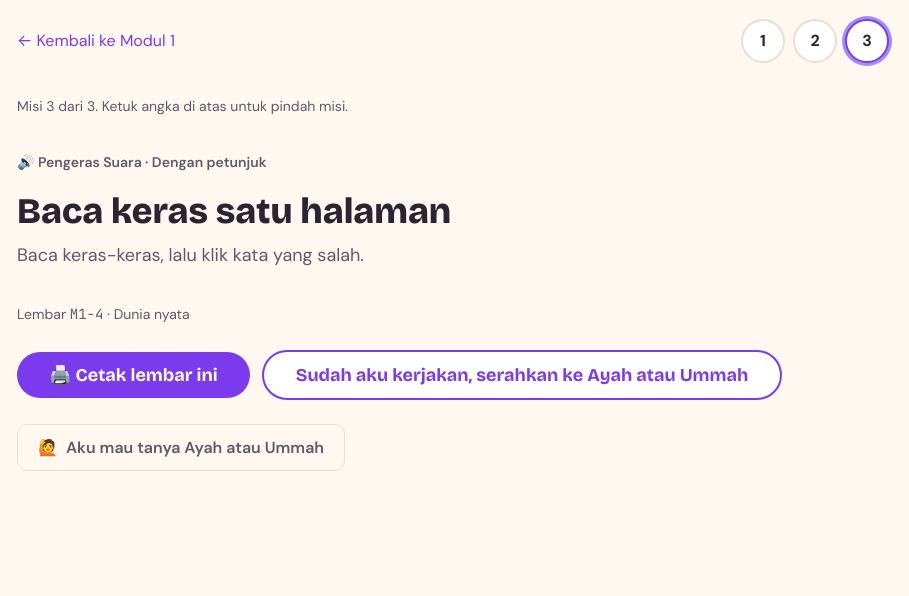
Scenario: Misi › misi cetak membuka lembar lalu menunggu diperiksa, anak boleh lanjut
Click the button "🖨️ Cetak lembar ini" at x=133, y=375, box [17, 352, 250, 398]
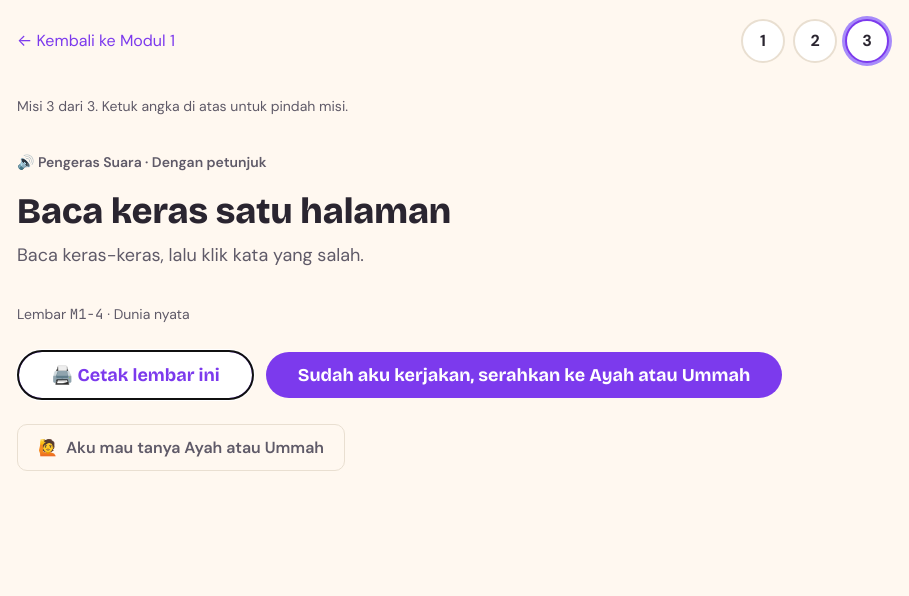
Click the button "Sudah aku kerjakan, serahkan ke Ayah atau Ummah" at x=524, y=375, box [266, 352, 782, 398]
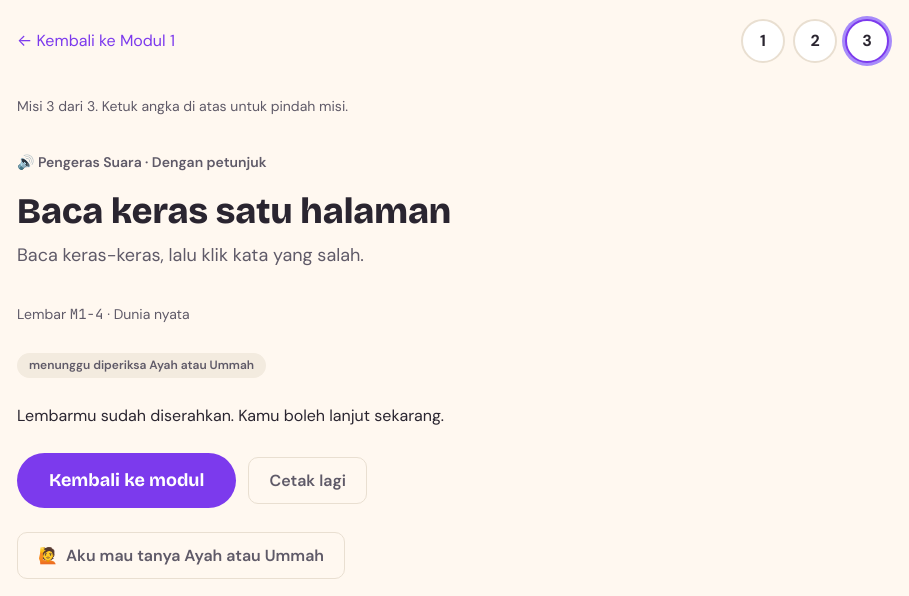
Result: the text "menunggu diperiksa Ayah atau Ummah" is shown at [17, 353, 266, 378]
Result: the link "Kembali ke modul" is shown at [17, 453, 236, 508]
